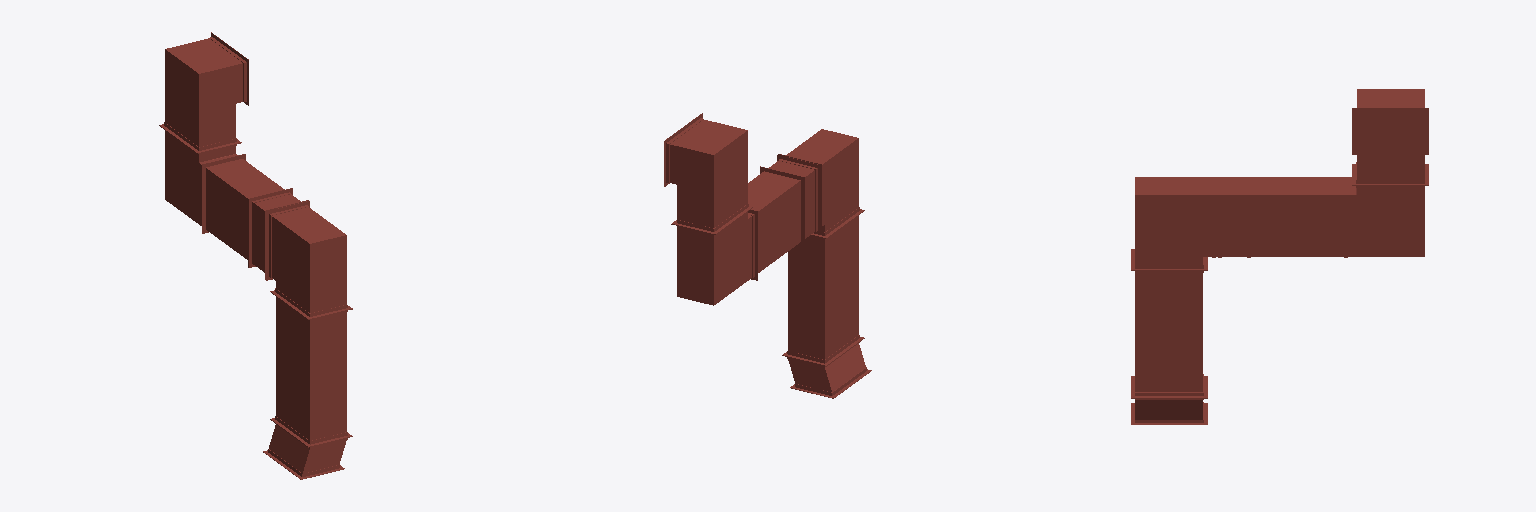
File: HULDRA-HB-HVAC.obj
The picture shows the model from 3 angles: view 1: azimuth 30°, elevation 25°; view 2: azimuth 150°, elevation 25°; view 3: azimuth 270°, elevation 25°; orthographic projection.
Parts seen in each view (by area): view 1: /20-A-00-274-5_Mesh.18395, /20-A-00-274-1_Mesh.18386, /20-A-00-274-4_Mesh.18393, Box_Mesh.18389, /20-A-00-274-2_Mesh.18388, /20-A-00-274-6_Mesh.18396, /20-A-00-274-3_Mesh.18391; view 2: /20-A-00-274-5_Mesh.18395, /20-A-00-274-1_Mesh.18386, /20-A-00-274-2_Mesh.18388, /20-A-00-274-4_Mesh.18393, Box_Mesh.18389, /20-A-00-274-6_Mesh.18396, /20-A-00-274-3_Mesh.18391; view 3: /20-A-00-274-5_Mesh.18395, Box_Mesh.18389, /20-A-00-274-4_Mesh.18393, /20-A-00-274-1_Mesh.18386, /20-A-00-274-2_Mesh.18388, /20-A-00-274-3_Mesh.18391, /20-A-00-274-6_Mesh.18396.
Boxes of the visible parts, x1,y1,x2,y2 form: /20-A-00-274-5_Mesh.18395: [270, 294, 352, 446]; /20-A-00-274-1_Mesh.18386: [159, 32, 248, 153]; /20-A-00-274-4_Mesh.18393: [266, 201, 352, 319]; Box_Mesh.18389: [206, 159, 284, 259]; /20-A-00-274-2_Mesh.18388: [161, 127, 245, 233]; /20-A-00-274-6_Mesh.18396: [263, 420, 349, 479]; /20-A-00-274-3_Mesh.18391: [248, 188, 308, 279]; /20-A-00-274-5_Mesh.18395: [782, 212, 863, 365]; /20-A-00-274-1_Mesh.18386: [664, 113, 753, 234]; /20-A-00-274-2_Mesh.18388: [671, 209, 757, 305]; /20-A-00-274-4_Mesh.18393: [778, 129, 864, 238]; Box_Mesh.18389: [748, 171, 800, 272]; /20-A-00-274-6_Mesh.18396: [785, 338, 871, 398]; /20-A-00-274-3_Mesh.18391: [760, 155, 820, 246]; /20-A-00-274-5_Mesh.18395: [1131, 271, 1207, 397]; Box_Mesh.18389: [1251, 177, 1343, 256]; /20-A-00-274-4_Mesh.18393: [1131, 177, 1215, 270]; /20-A-00-274-1_Mesh.18386: [1352, 89, 1428, 185]; /20-A-00-274-2_Mesh.18388: [1344, 177, 1424, 257]; /20-A-00-274-3_Mesh.18391: [1218, 177, 1250, 257]; /20-A-00-274-6_Mesh.18396: [1131, 398, 1207, 424].
Bounding box in the file's own units: 0.8 × 4.2 × 3.5.